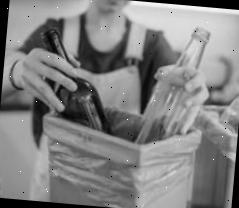glass: (134, 23, 213, 154), (33, 25, 122, 140)
